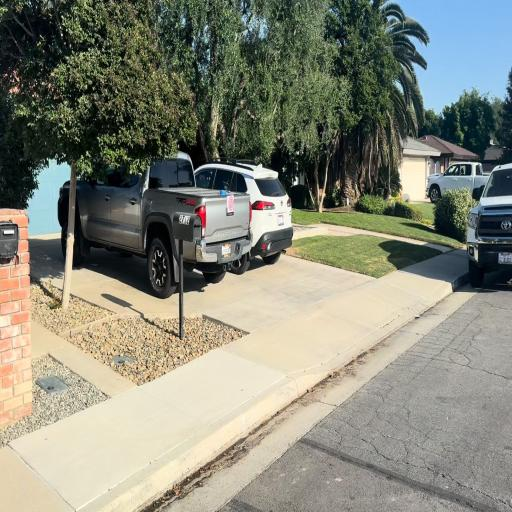bullseye: (228, 195, 234, 212)
